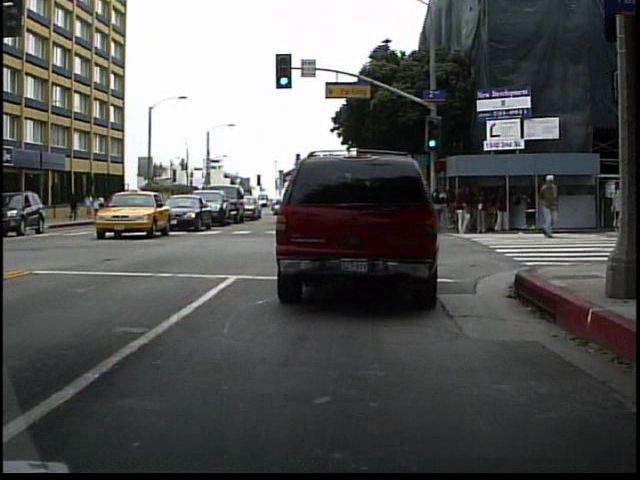person: (537, 172, 562, 241), (24, 194, 43, 230)
